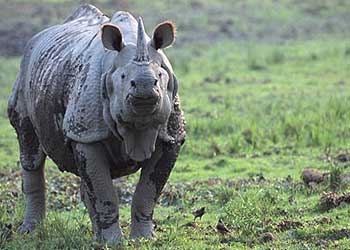rhino: (6, 3, 187, 249)
